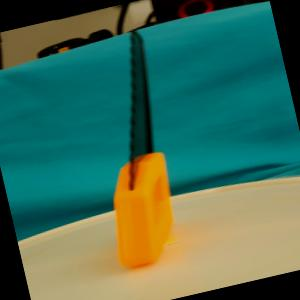serrote: (68, 26, 192, 268)
